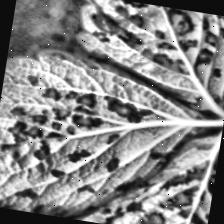Angular Leafspot: (0, 42, 221, 224), (22, 86, 224, 224), (51, 0, 224, 120)
